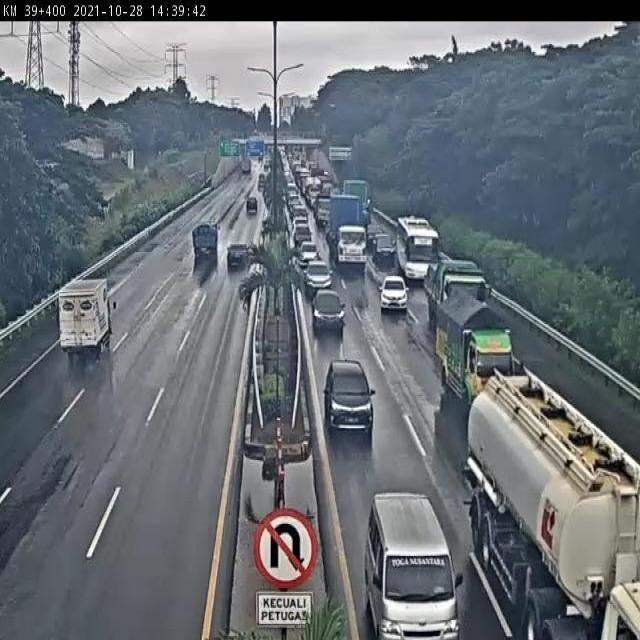big bus: (395, 217, 435, 283)
big truck: (468, 373, 640, 640), (328, 191, 367, 268)
car: (365, 492, 457, 640), (324, 356, 373, 433), (309, 290, 348, 338), (304, 260, 332, 299), (380, 275, 407, 309), (223, 248, 250, 275), (371, 229, 394, 259), (297, 236, 320, 263), (242, 197, 259, 219)
mid truck: (425, 260, 486, 328)
small truck: (58, 277, 112, 355), (190, 224, 215, 263)
truck-m-: (437, 298, 519, 410)
